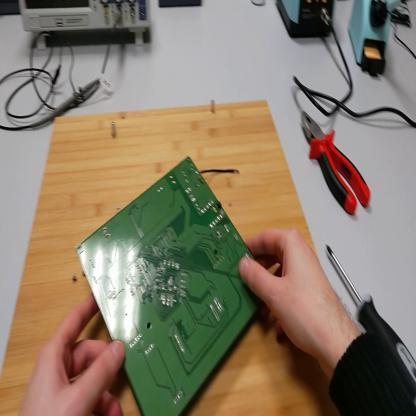hand: (21, 293, 128, 416), (241, 226, 339, 360)
low voltage board: (73, 155, 259, 415)
oscilloscope: (20, 1, 152, 55)
oscilloscope probe tip: (29, 76, 103, 132)
pliers: (301, 112, 372, 219)
screwdriver-: (328, 245, 416, 403)
welder base: (349, 4, 396, 78)
welder probe tip: (378, 1, 403, 20)
welder station: (277, 2, 335, 40)
working area: (2, 78, 338, 416)
